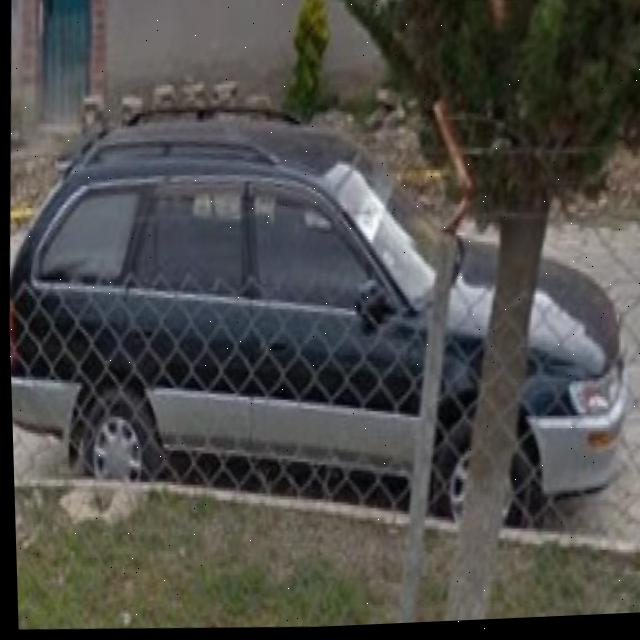vehicle: (3, 104, 631, 520)
